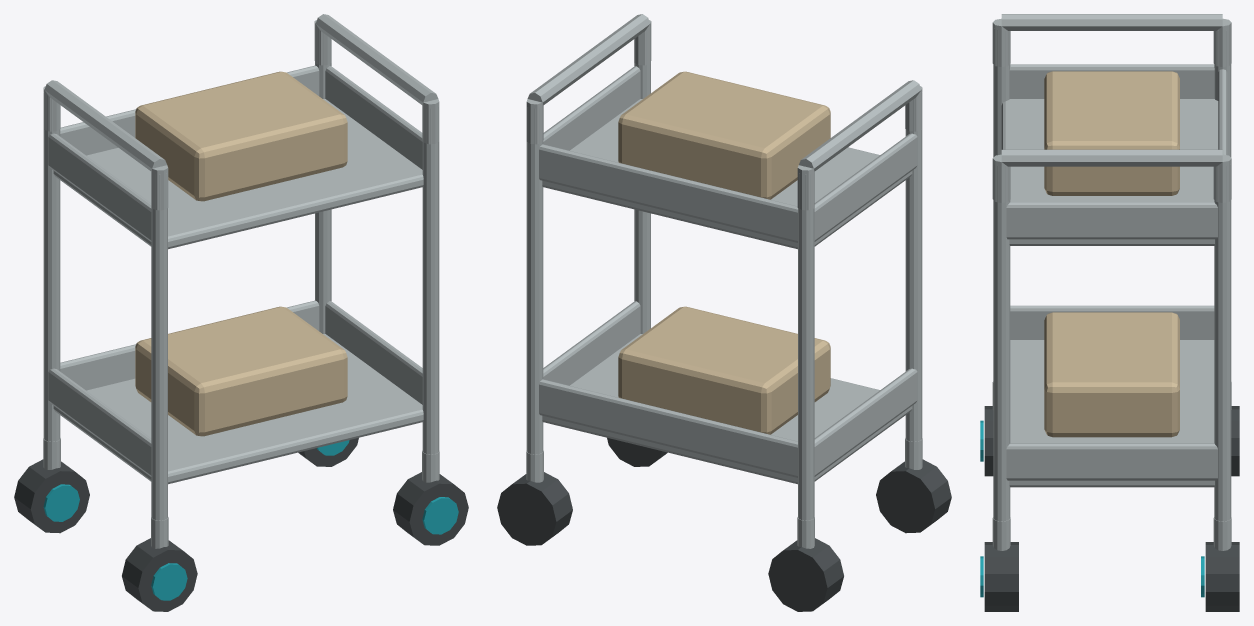
Rendered from prep_storage_starter.glb.
3 renders of one model, left to right at view 1: azimuth 30°, elevation 25°; view 2: azimuth 150°, elevation 25°; view 3: azimuth 270°, elevation 25°, orthographic. The views are drawn at different scales.
Visible parts, largest first — view 1: STATIC_metal.034, STATIC_beige.010, STATIC_rubber.029, STATIC_teal.036; view 2: STATIC_metal.034, STATIC_beige.010, STATIC_rubber.029; view 3: STATIC_metal.034, STATIC_beige.010, STATIC_rubber.029, STATIC_teal.036.
Part boxes in pixels (x1,y1,x2,y2): STATIC_metal.034: [43, 14, 439, 548]; STATIC_beige.010: [135, 71, 347, 436]; STATIC_rubber.029: [14, 438, 468, 611]; STATIC_teal.036: [43, 440, 458, 600]; STATIC_metal.034: [526, 14, 922, 548]; STATIC_beige.010: [618, 71, 830, 434]; STATIC_rubber.029: [497, 438, 951, 611]; STATIC_metal.034: [992, 14, 1231, 550]; STATIC_beige.010: [1044, 71, 1179, 437]; STATIC_rubber.029: [984, 406, 1239, 611]; STATIC_teal.036: [980, 420, 1204, 597].
Bounding box in the file's own units: 0.78 × 1.01 × 0.517.
